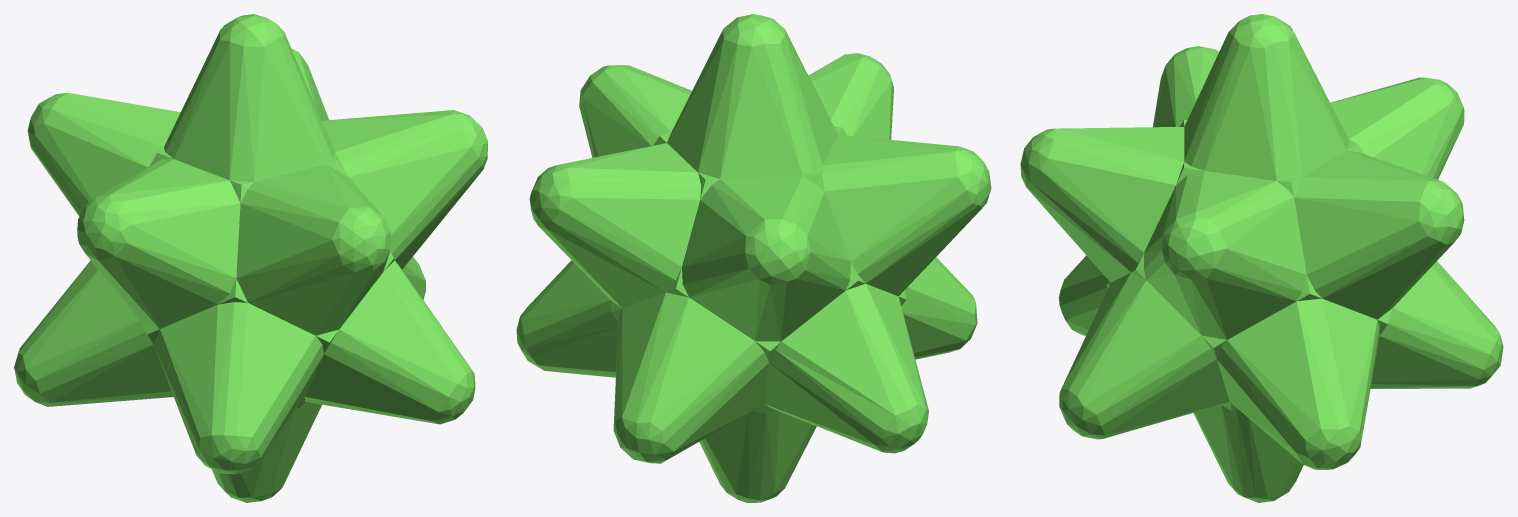
File: green.glb
3 renders of one model, left to right at view 1: azimuth 30°, elevation 25°; view 2: azimuth 150°, elevation 25°; view 3: azimuth 270°, elevation 25°, orthographic.
Visible parts, largest first — view 1: Dodecahedron - Star Fragment; view 2: Dodecahedron - Star Fragment; view 3: Dodecahedron - Star Fragment.
Boxes of the visible parts, box(x1,y1,x2,y2) form: Dodecahedron - Star Fragment: box(14, 14, 487, 502); Dodecahedron - Star Fragment: box(516, 14, 991, 502); Dodecahedron - Star Fragment: box(1020, 14, 1503, 502).
Bounding box in the file's own units: 59.52 × 68.16 × 61.98.
